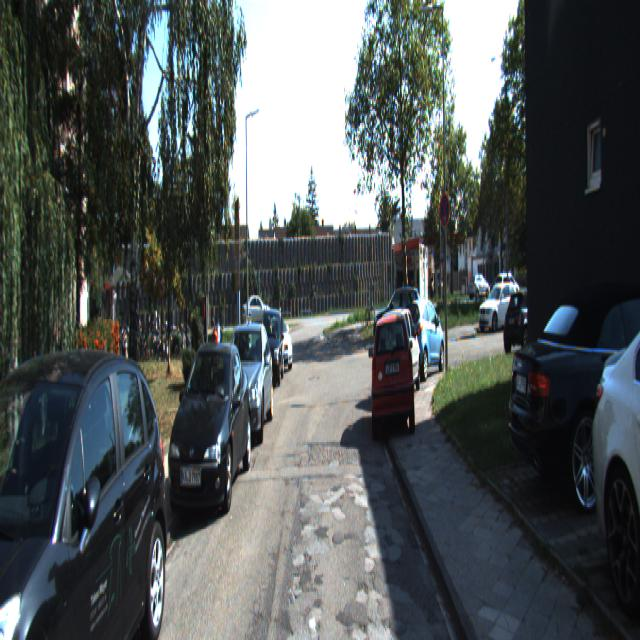Car: (0, 340, 171, 638), (509, 264, 640, 514), (586, 259, 640, 615), (164, 332, 253, 528), (216, 320, 275, 451), (369, 304, 417, 447), (376, 301, 422, 404), (399, 290, 446, 381), (502, 281, 554, 354), (256, 302, 286, 389), (476, 280, 520, 329), (259, 312, 292, 374), (240, 293, 272, 330)
